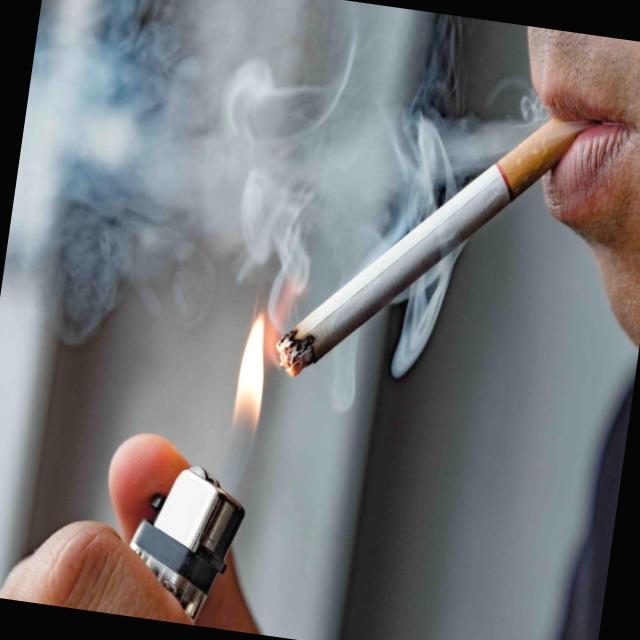smoke: (272, 74, 583, 409)
